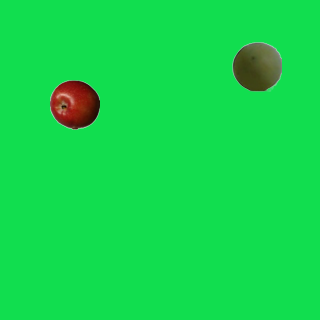Apple Braeburn: (49, 79, 99, 129)
Grape White 4: (231, 41, 281, 91)
